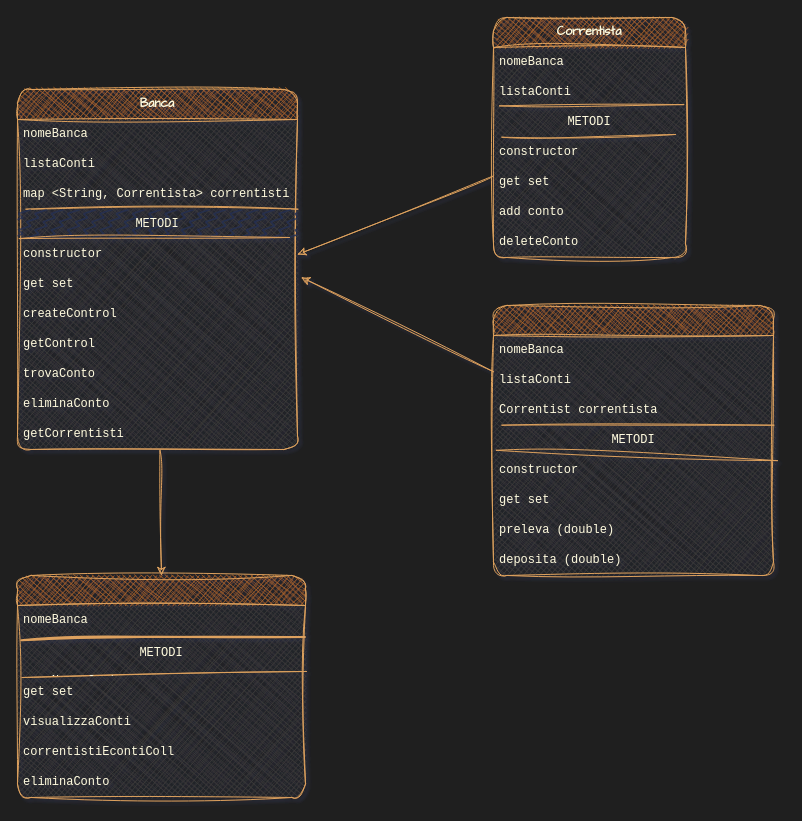
Image size: 802x821. Some labels were removed from this diagram. Here are the shapes that lost their labels. From the top down, the box of each, then its label:
(492, 304, 774, 576): CC
(16, 574, 306, 798): BancaCtrl
